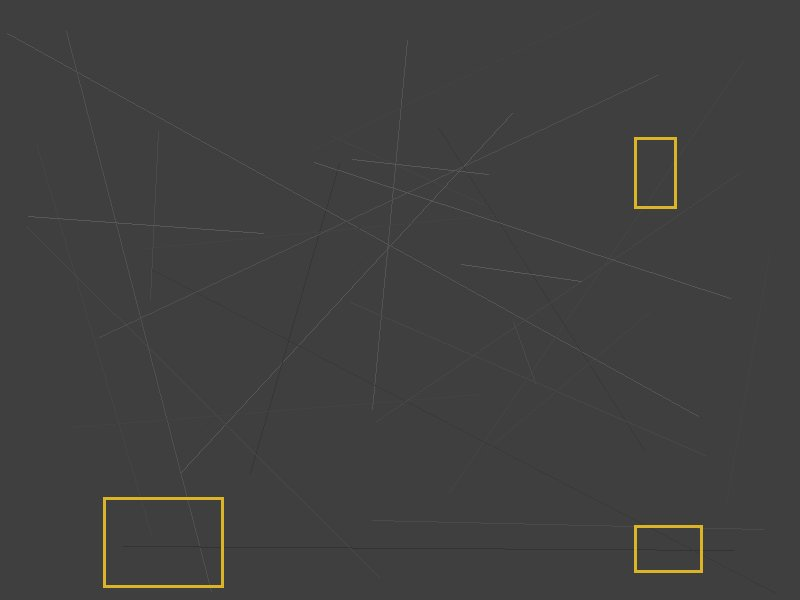D00: (103, 497, 223, 587), (634, 137, 676, 208)
D40: (634, 525, 702, 572)
